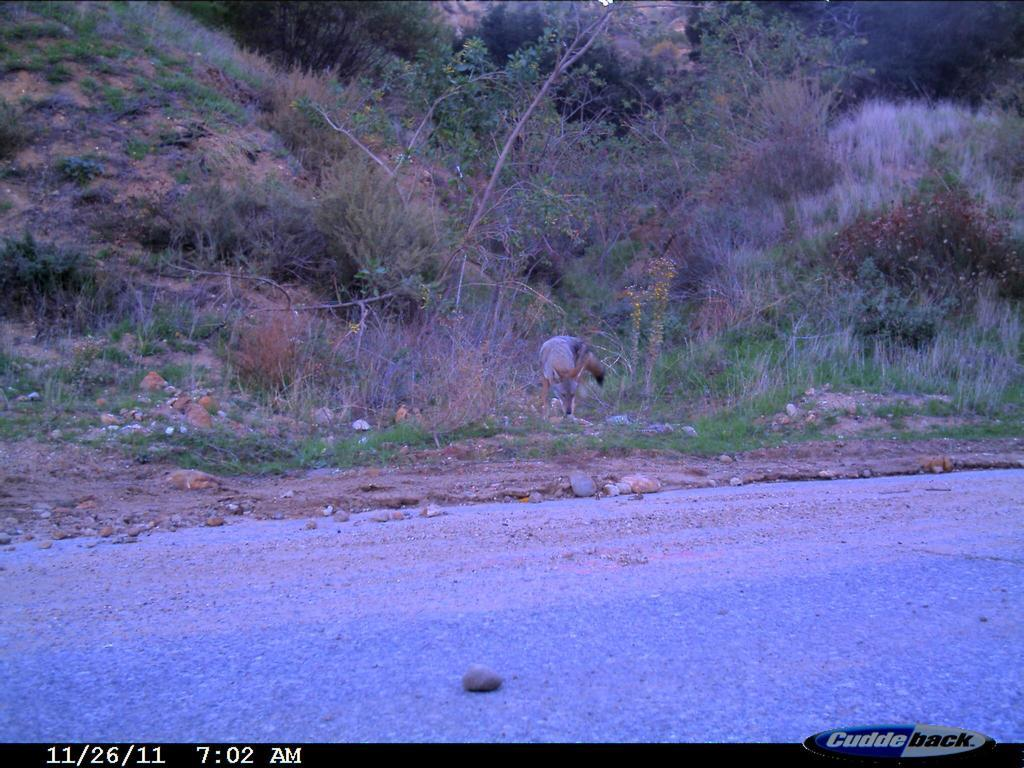coyote: (529, 326, 624, 436)
